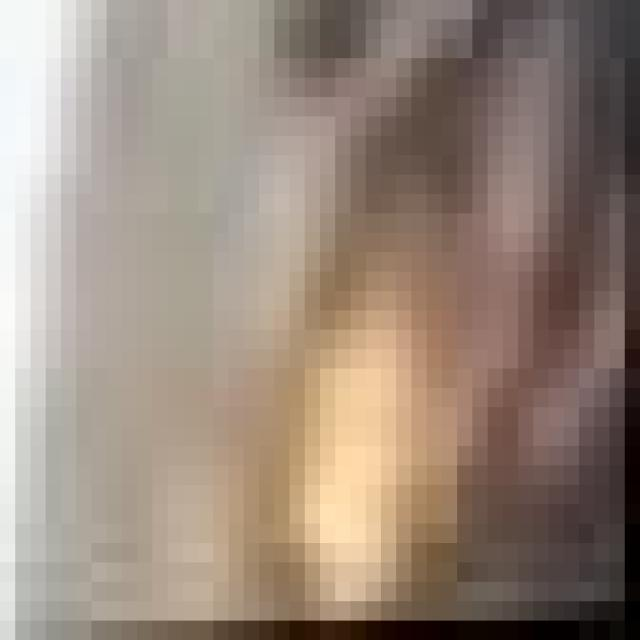fire: (15, 19, 640, 640)
